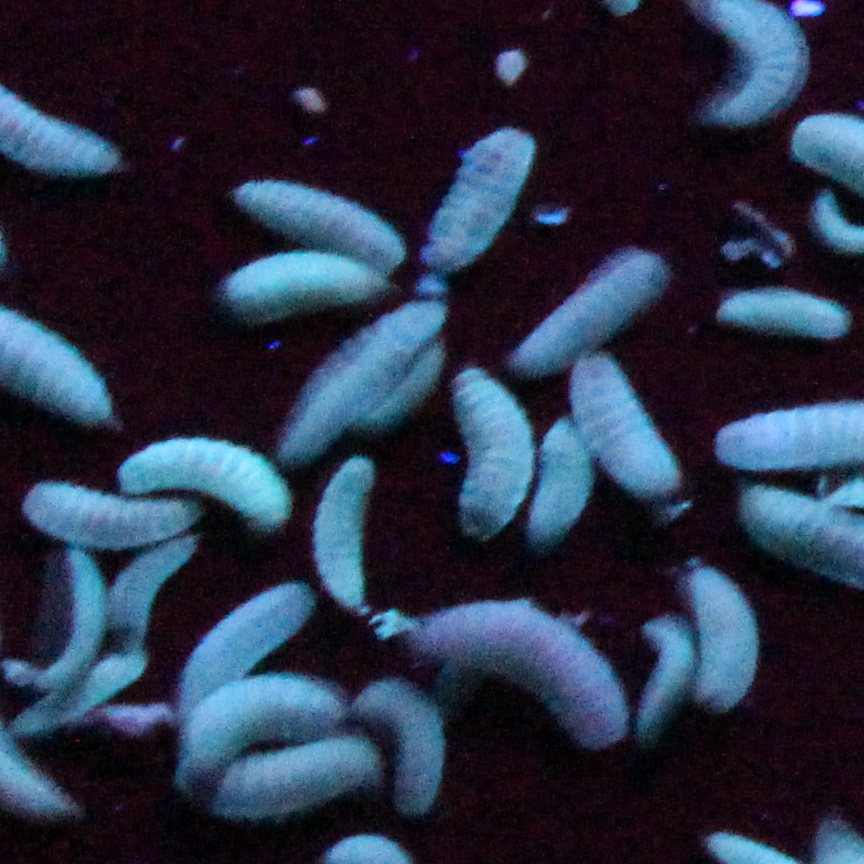larve: (403, 595, 619, 740), (301, 293, 435, 452), (519, 242, 670, 370), (421, 127, 544, 270), (239, 182, 407, 276), (174, 678, 342, 770), (127, 442, 292, 534), (184, 589, 315, 701), (582, 360, 686, 497), (454, 358, 533, 538), (217, 732, 376, 821), (13, 648, 154, 734), (27, 483, 205, 546), (356, 685, 442, 805), (229, 258, 392, 319), (688, 566, 752, 717), (109, 544, 197, 644), (717, 289, 856, 340), (319, 458, 366, 607), (372, 348, 446, 438), (539, 407, 588, 540), (641, 621, 686, 736)
